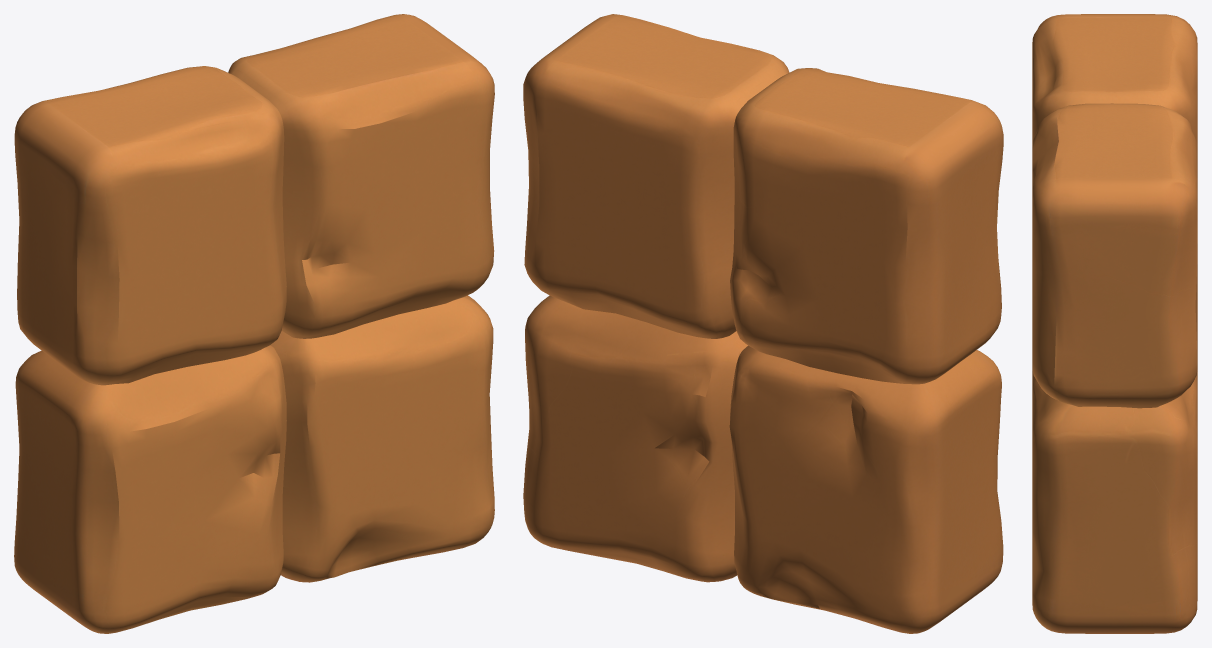
File: brick_L_sandstone_old.glb
3 renders of one model, left to right at view 1: azimuth 30°, elevation 25°; view 2: azimuth 150°, elevation 25°; view 3: azimuth 270°, elevation 25°, orthographic. The views are drawn at different scales.
Parts seen in each view (by area): view 1: Mesh_0; view 2: Mesh_0; view 3: Mesh_0.
Boxes of the visible parts, box(x1,y1,x2,y2) form: Mesh_0: box(14, 14, 494, 633); Mesh_0: box(523, 14, 1003, 633); Mesh_0: box(1032, 14, 1197, 633).
Bounding box in the file's own units: 1.7 × 1.9 × 0.6296.
Materials: 1 (1 with a texture image).
